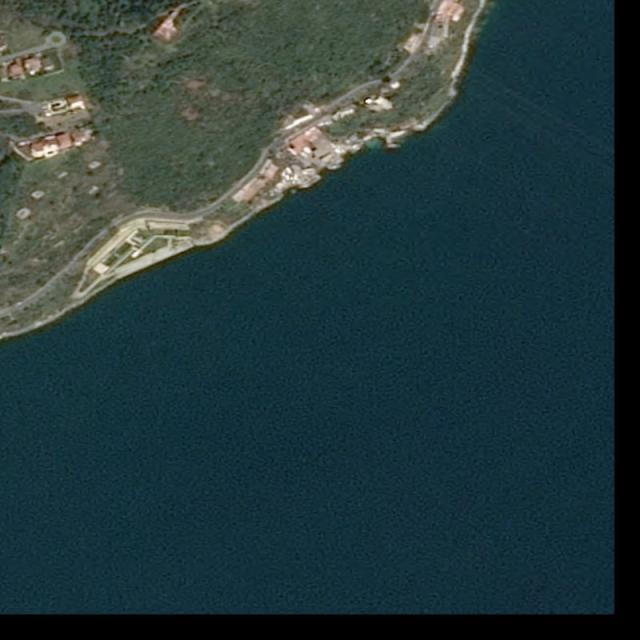ship: (386, 143, 402, 149)
